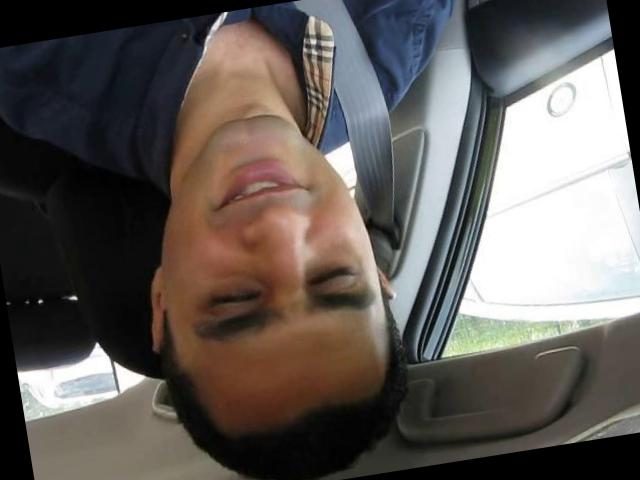eye_closed: (204, 280, 266, 314), (304, 258, 362, 294)
face: (150, 101, 390, 373)
